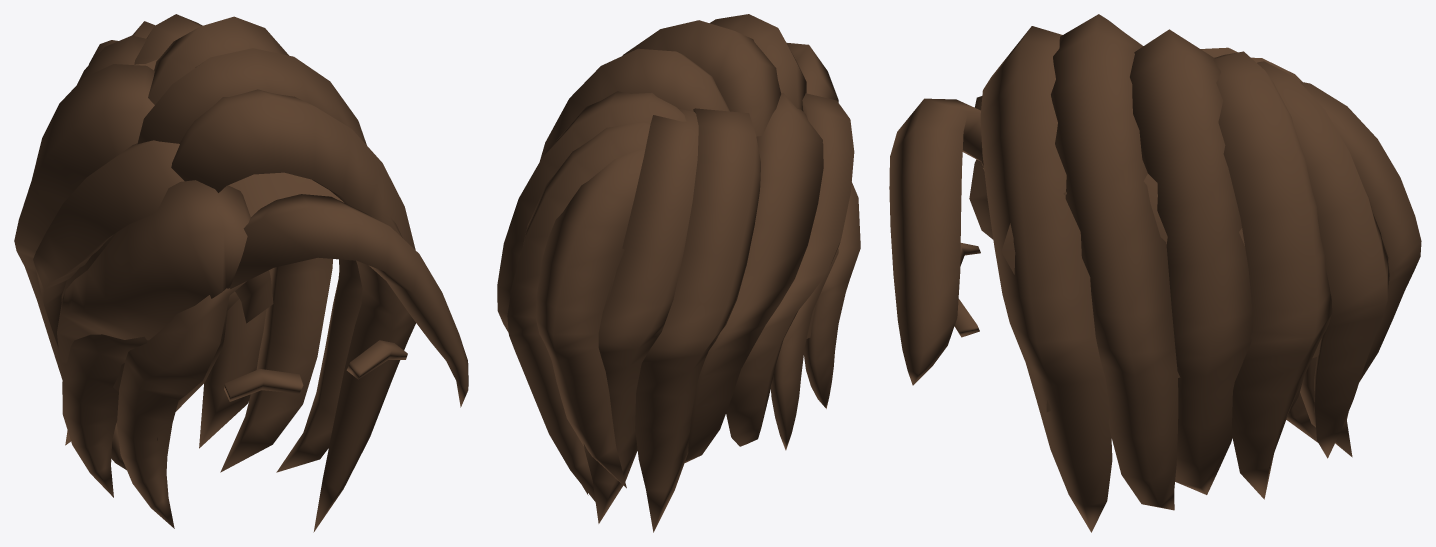
Rendered from umw_scifi.glb.
The picture shows the model from 3 angles, left to right: view 1: azimuth 30°, elevation 25°; view 2: azimuth 150°, elevation 25°; view 3: azimuth 270°, elevation 25°; orthographic projection. The views are drawn at different scales.
Parts seen in each view (by area): view 1: SciFi; view 2: SciFi; view 3: SciFi.
Boxes of the visible parts, x1,y1,x2,y2 form: SciFi: (14,14,468,532); SciFi: (497,14,860,532); SciFi: (889,14,1421,532).
Bounding box in the file's own units: 0.1907 × 0.2981 × 0.3037.
